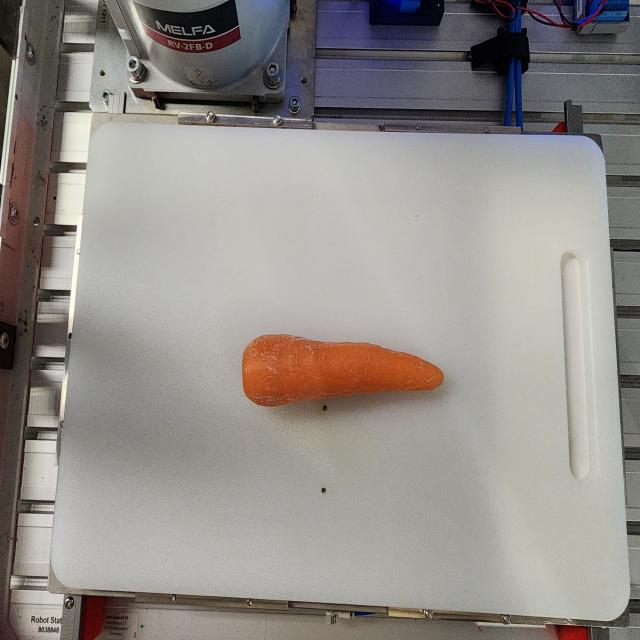carrot: (241, 333, 444, 407)
